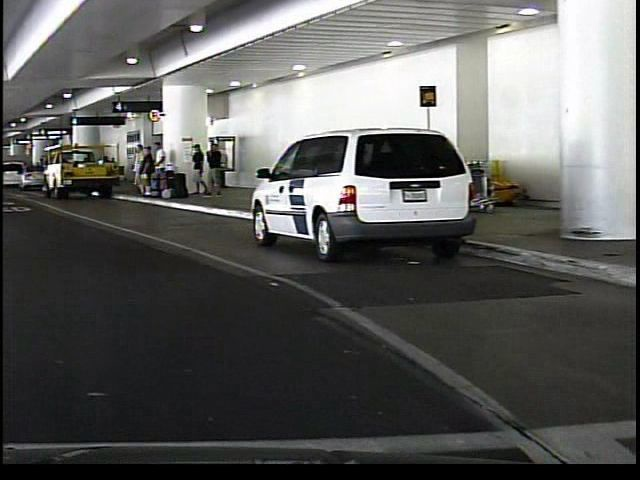person: (202, 139, 220, 198), (125, 141, 139, 198)
